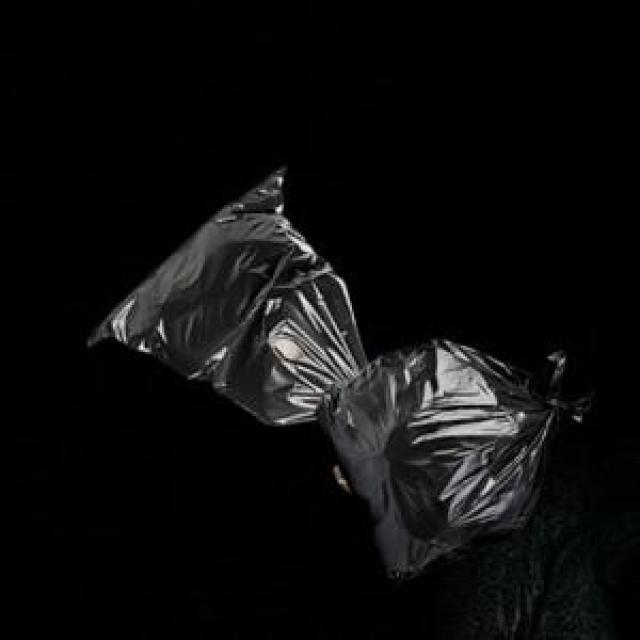miscellaneous trash: (85, 164, 363, 486), (312, 335, 589, 580)
